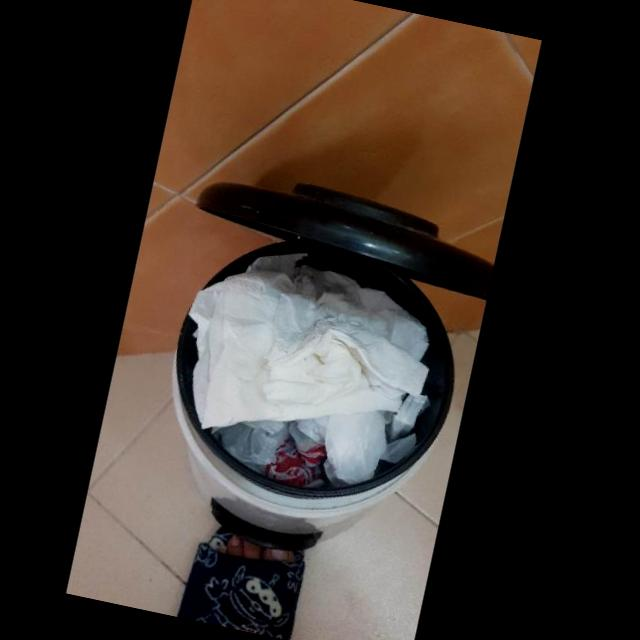giay: (186, 253, 428, 429)
tui_ni_long: (217, 395, 428, 488)
